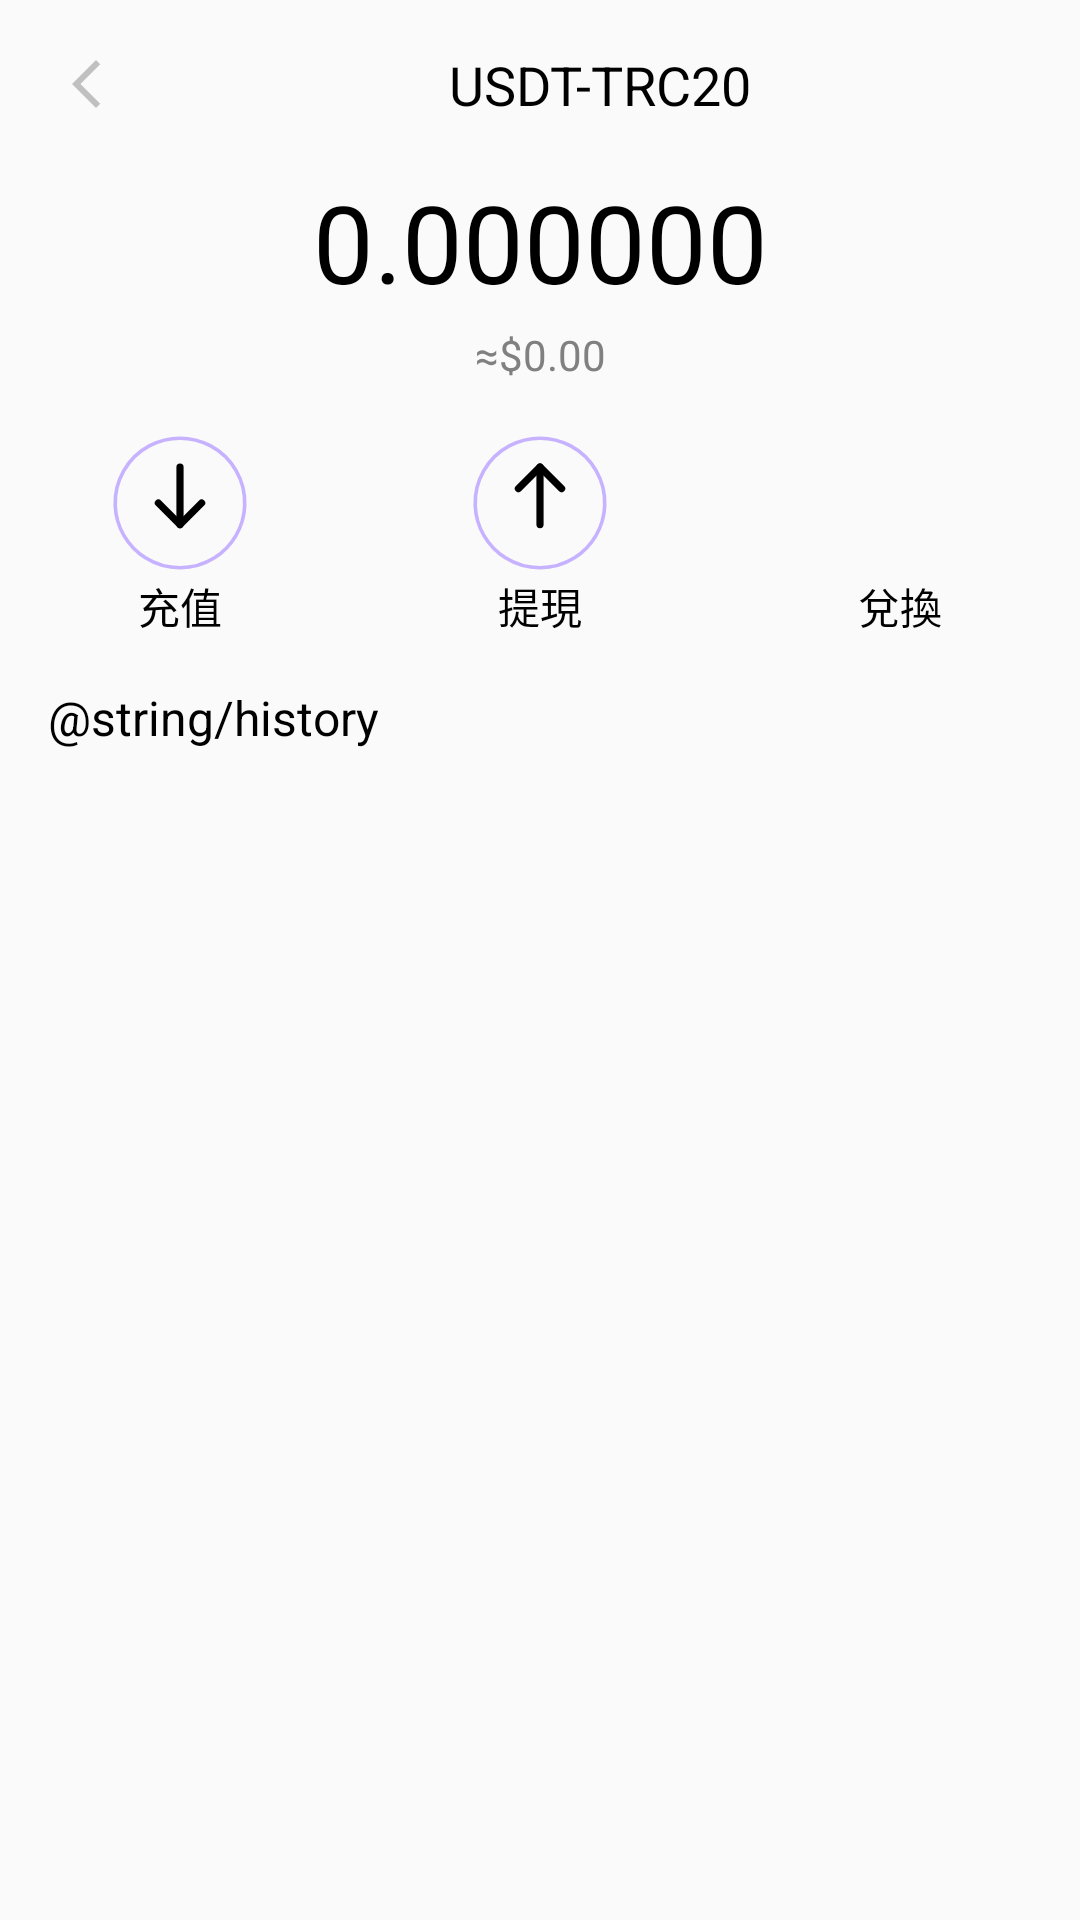

Screen size 1080px x 1920px. Icon name, then its center in pixels as (x=x, y=y):
back: (x=86, y=84)
